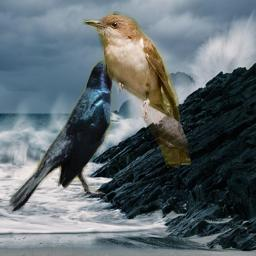Crow: (5, 57, 139, 214)
Cuckoo: (82, 11, 191, 168)
